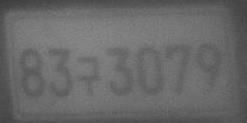0: (135, 45, 165, 93)
3: (104, 46, 134, 96), (47, 47, 74, 97)
7: (166, 43, 193, 94)
8: (18, 46, 46, 98)
9: (195, 41, 221, 94)
구: (76, 55, 102, 98)
